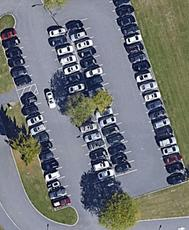parkingspot: (106, 0, 189, 188), (19, 92, 76, 212), (66, 17, 113, 98), (44, 24, 92, 98), (94, 103, 140, 178), (76, 120, 117, 185), (0, 26, 37, 92)
